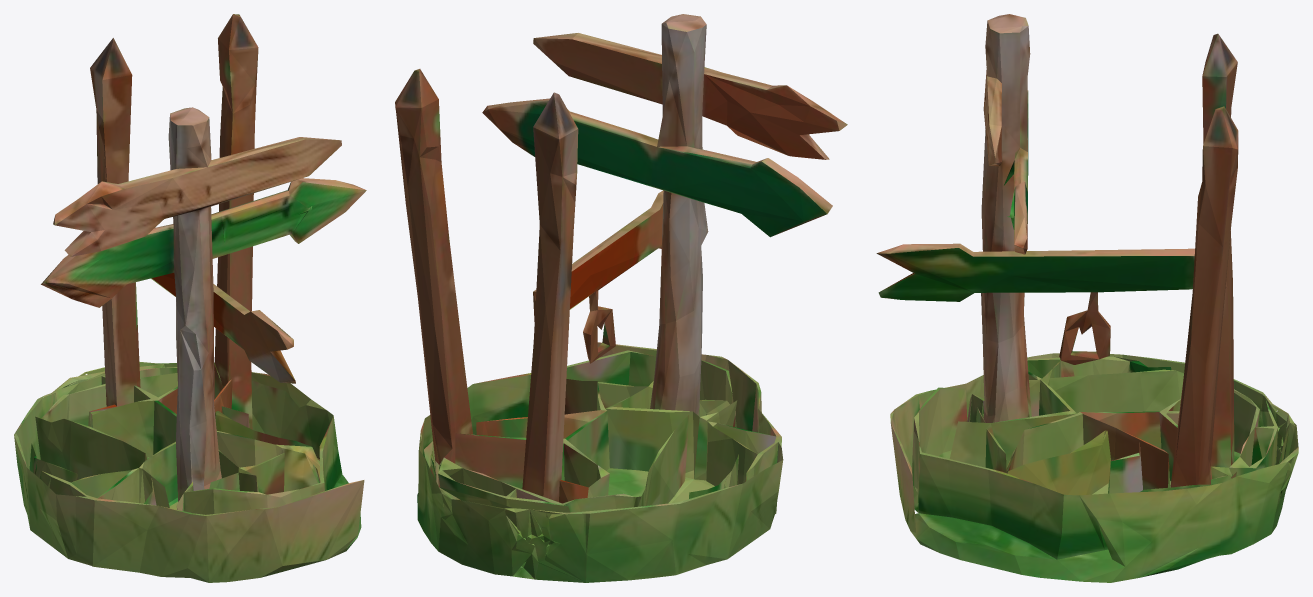
The model's file is park_sign.glb.
The picture shows the model from 3 angles, left to right: view 1: azimuth 30°, elevation 25°; view 2: azimuth 150°, elevation 25°; view 3: azimuth 270°, elevation 25°; orthographic projection. The views are drawn at different scales.
Parts seen in each view (by area): view 1: textured_mesh.obj; view 2: textured_mesh.obj; view 3: textured_mesh.obj.
Part boxes in pixels (x1,y1,x2,y2): textured_mesh.obj: (14, 14, 366, 582); textured_mesh.obj: (395, 14, 847, 582); textured_mesh.obj: (876, 14, 1298, 582).
Size of the model in its own units: 1.77 by 2.2 by 1.82.
1 material, 1 textured.
